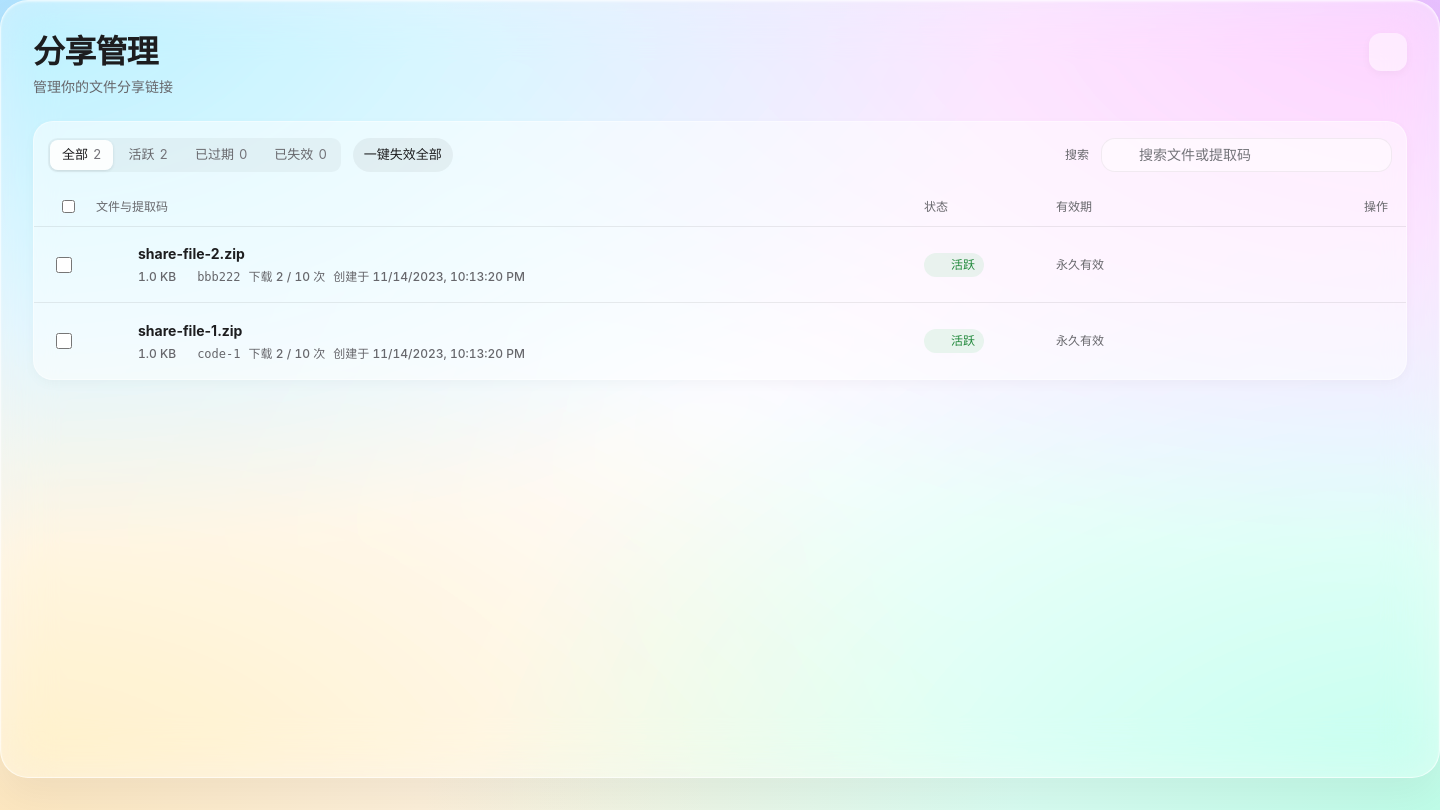
Scenario: SharesPage（V1 分享管理页） › 本地搜索按文件名与提取码过滤，不发新请求
Expected: the text "share-file-1.zip" is shown, [138,322,242,339]
Type "bbb222" into the search field named "搜索分享" at (1246, 155), box [1101,138,1392,172]
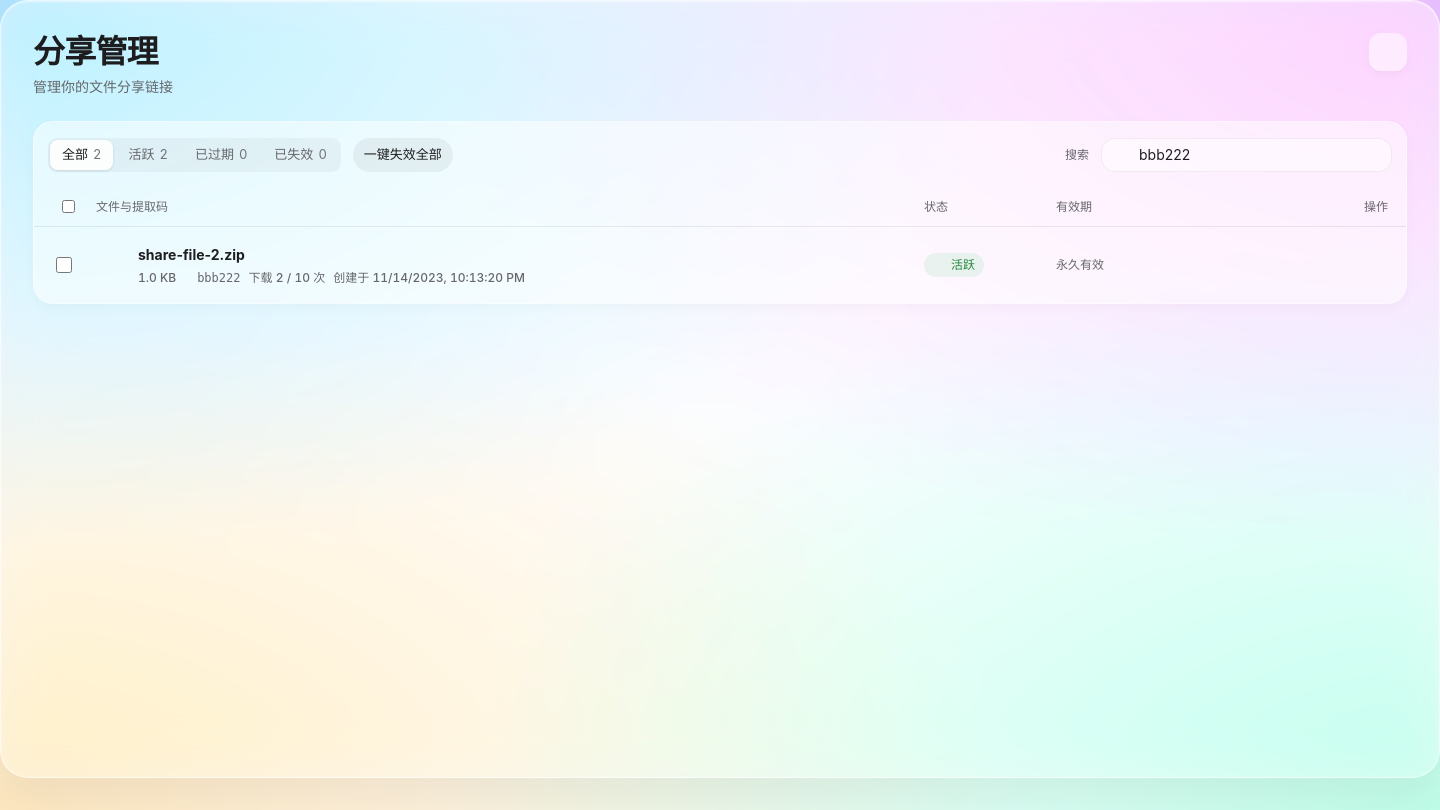
Expected: the text "share-file-2.zip" is shown, [138,246,245,263]
Now the button "share-file-1.zip" is gone
